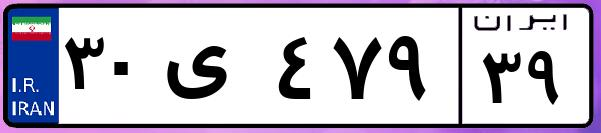0: (110, 28, 158, 98)
3: (57, 26, 110, 100), (475, 38, 525, 113)
4: (270, 28, 330, 110)
7: (330, 28, 385, 110)
9: (385, 28, 445, 110), (525, 38, 570, 115)
ی: (158, 20, 270, 120)
